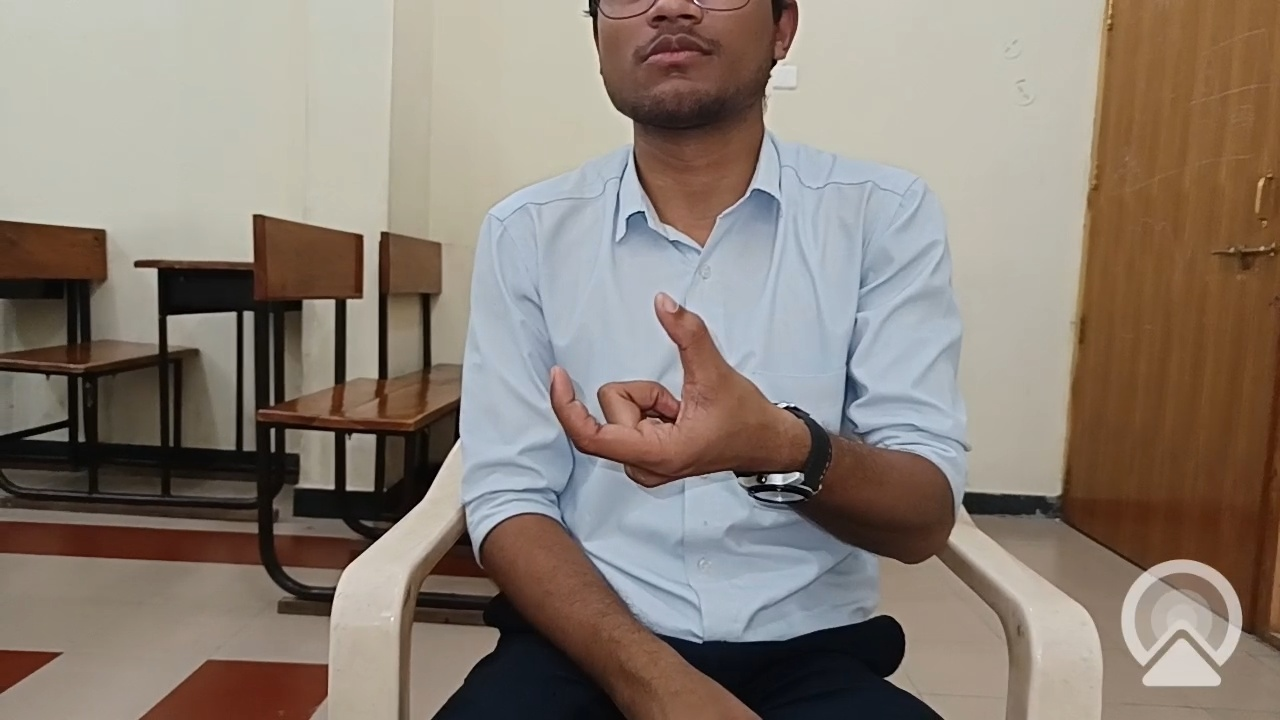U: (509, 252, 789, 562)
